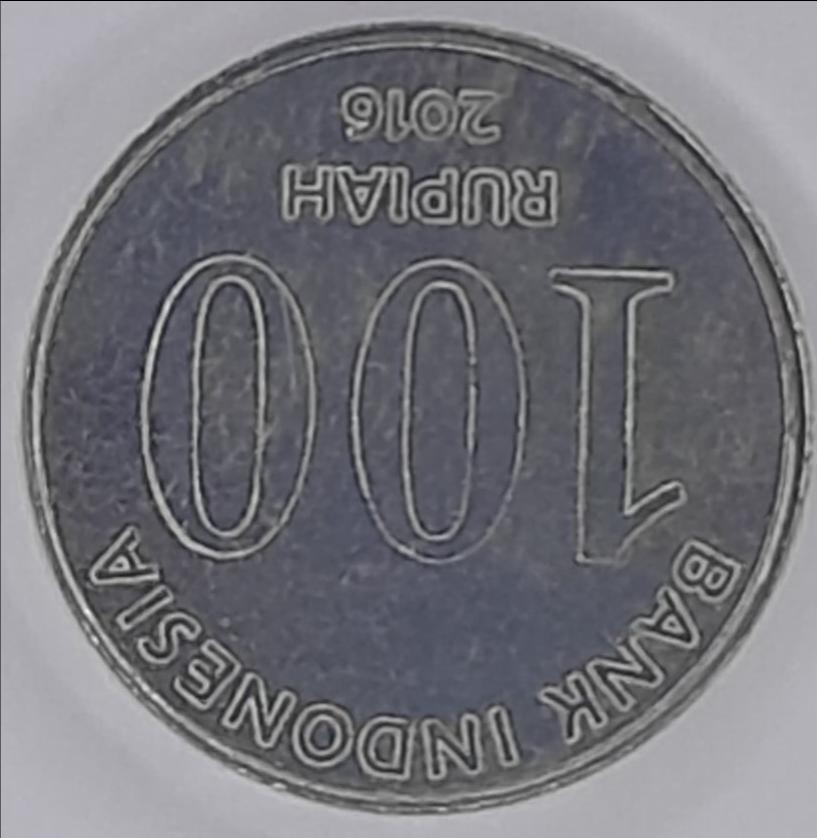coin_100_e2016: (17, 15, 816, 816)
